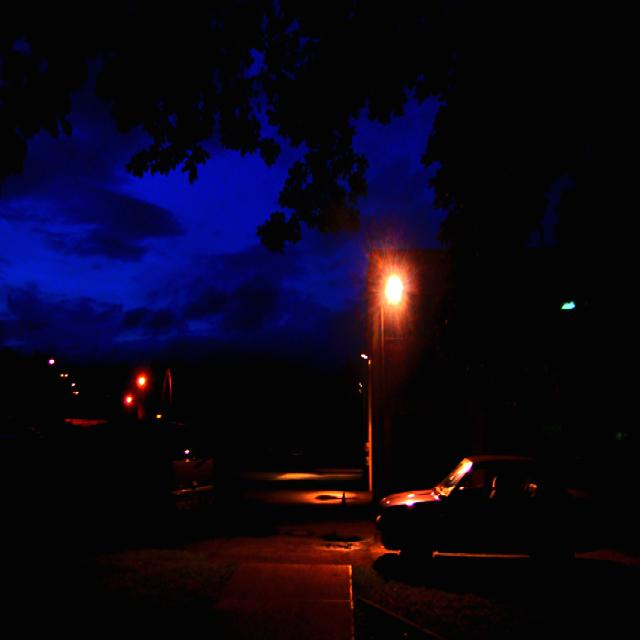Car: (371, 452, 616, 576)
